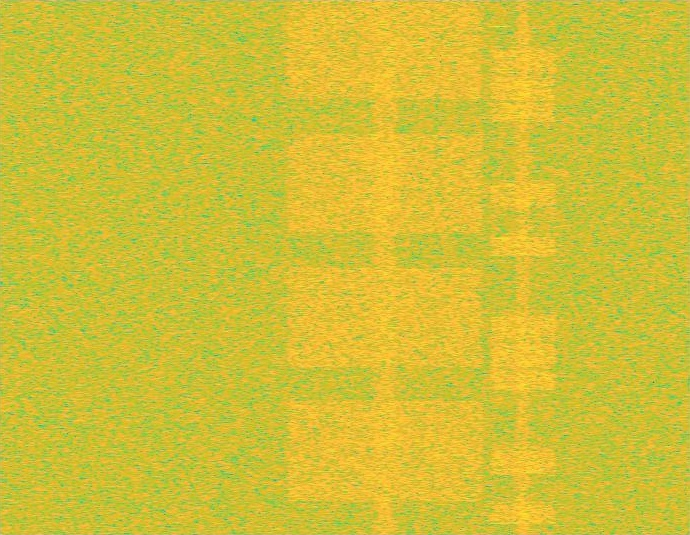5G: (282, 0, 489, 534)
DSSS: (371, 0, 399, 534), (515, 0, 531, 534)
LTE: (489, 0, 558, 534)
Radar: (493, 0, 507, 534)
